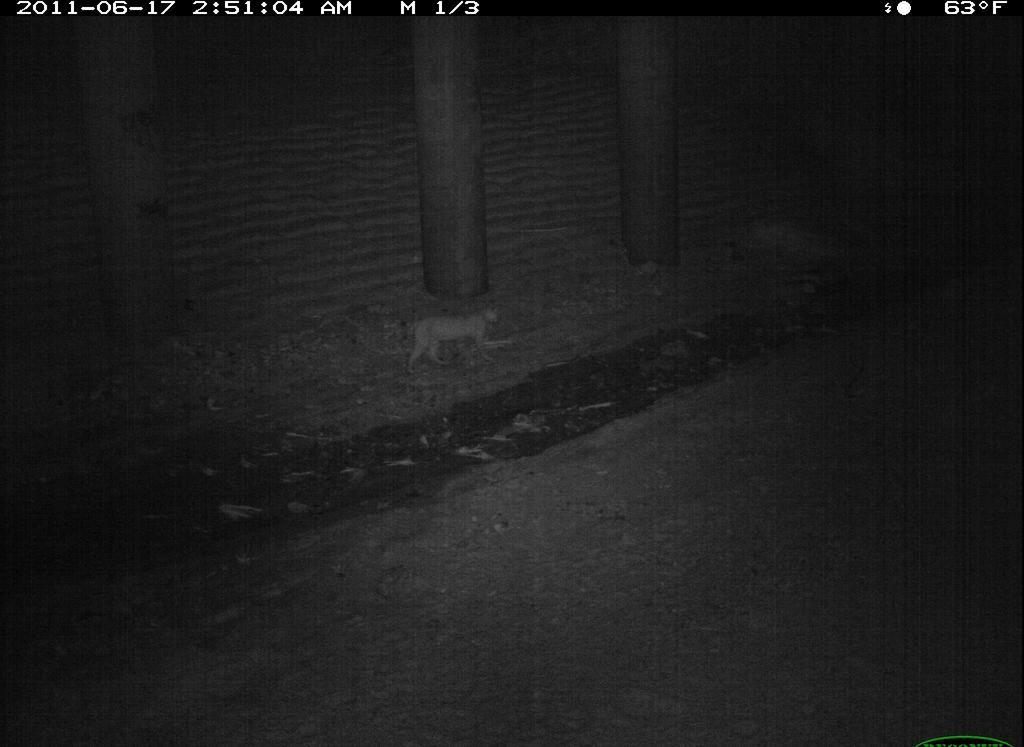bobcat: (790, 597, 1019, 747)
